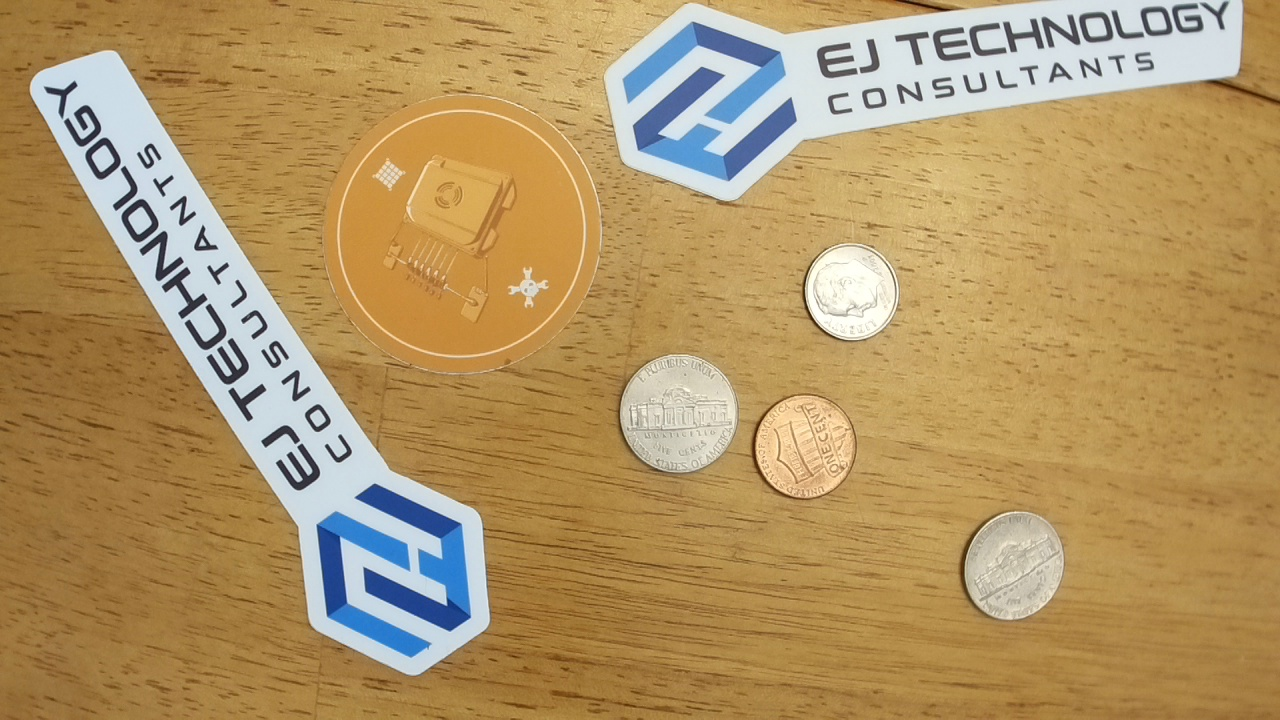dime: (800, 237, 902, 345)
nickel: (614, 352, 740, 476), (958, 502, 1068, 626)
penny: (751, 391, 857, 501)
